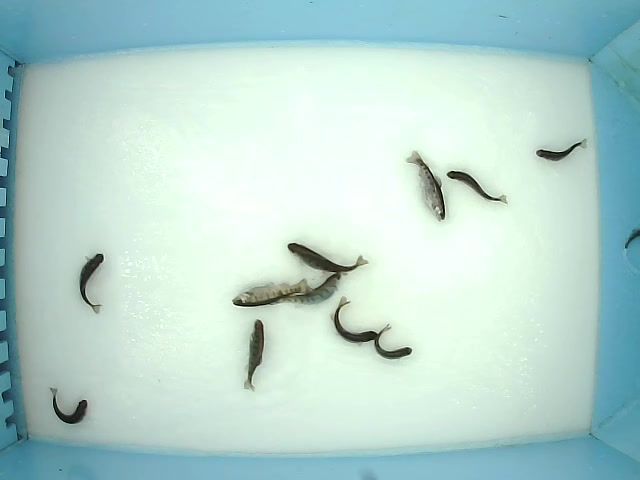fish: (404, 150, 446, 223), (287, 242, 370, 276), (231, 278, 315, 309), (269, 272, 344, 306), (330, 296, 379, 346), (446, 169, 508, 205), (78, 253, 106, 315), (243, 318, 264, 394), (48, 387, 89, 425), (375, 324, 413, 360), (535, 138, 589, 161)
